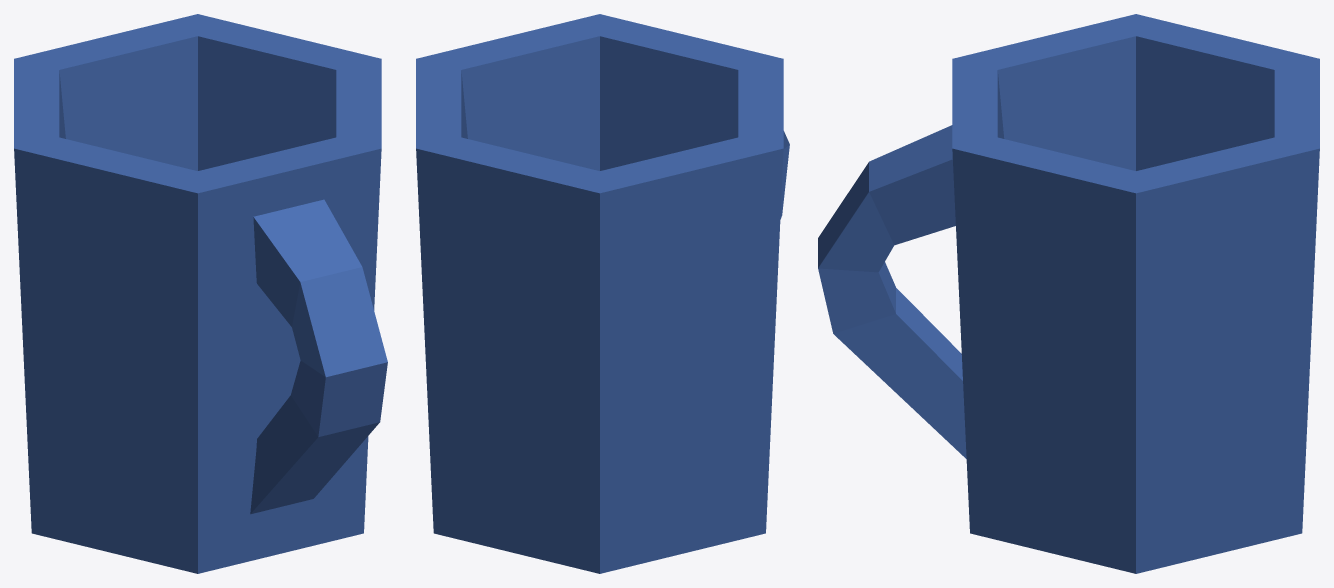
Rendered from SM_Cup_01.fbx.
3 renders of one model, left to right at view 1: azimuth 30°, elevation 25°; view 2: azimuth 150°, elevation 25°; view 3: azimuth 270°, elevation 25°, orthographic.
Parts seen in each view (by area): view 1: SM_Cup_01; view 2: SM_Cup_01; view 3: SM_Cup_01.
Part boxes in pixels (box(x1,y1,x2,y2)): SM_Cup_01: box(14, 14, 387, 573); SM_Cup_01: box(416, 14, 789, 573); SM_Cup_01: box(818, 14, 1319, 573).
Bounding box in the file's own units: 16.51 × 16.71 × 19.53.
